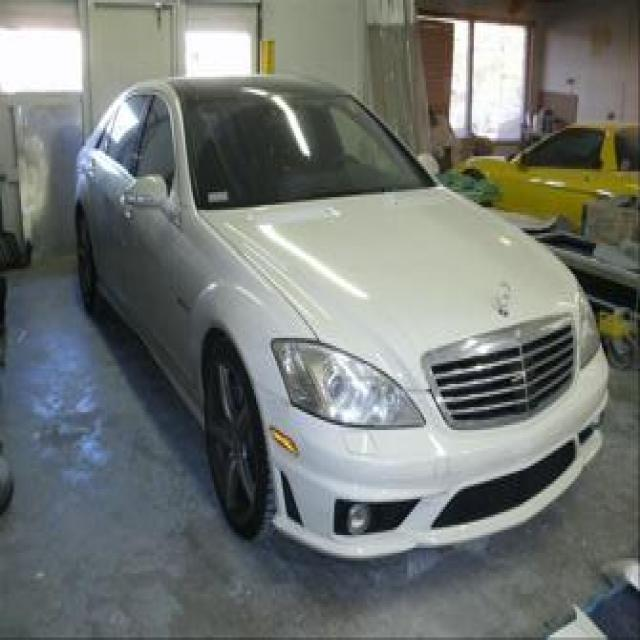Car: (24, 83, 636, 588)
